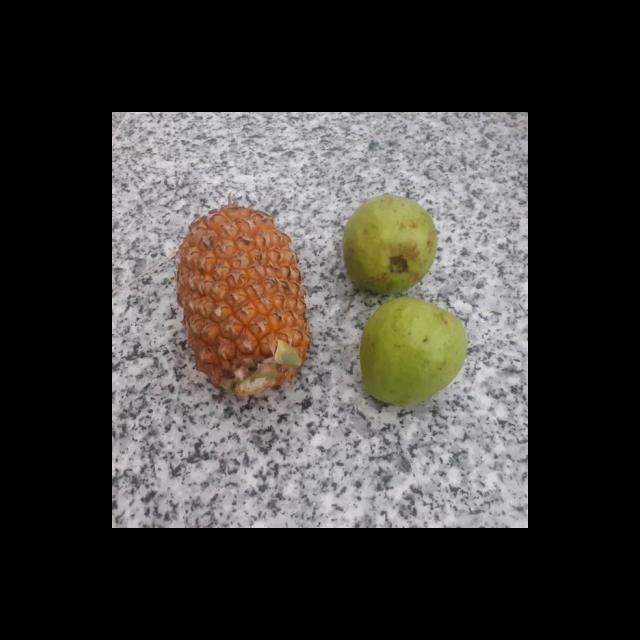guava: (361, 299, 471, 406), (342, 196, 442, 292)
pineapple: (178, 208, 310, 396)
